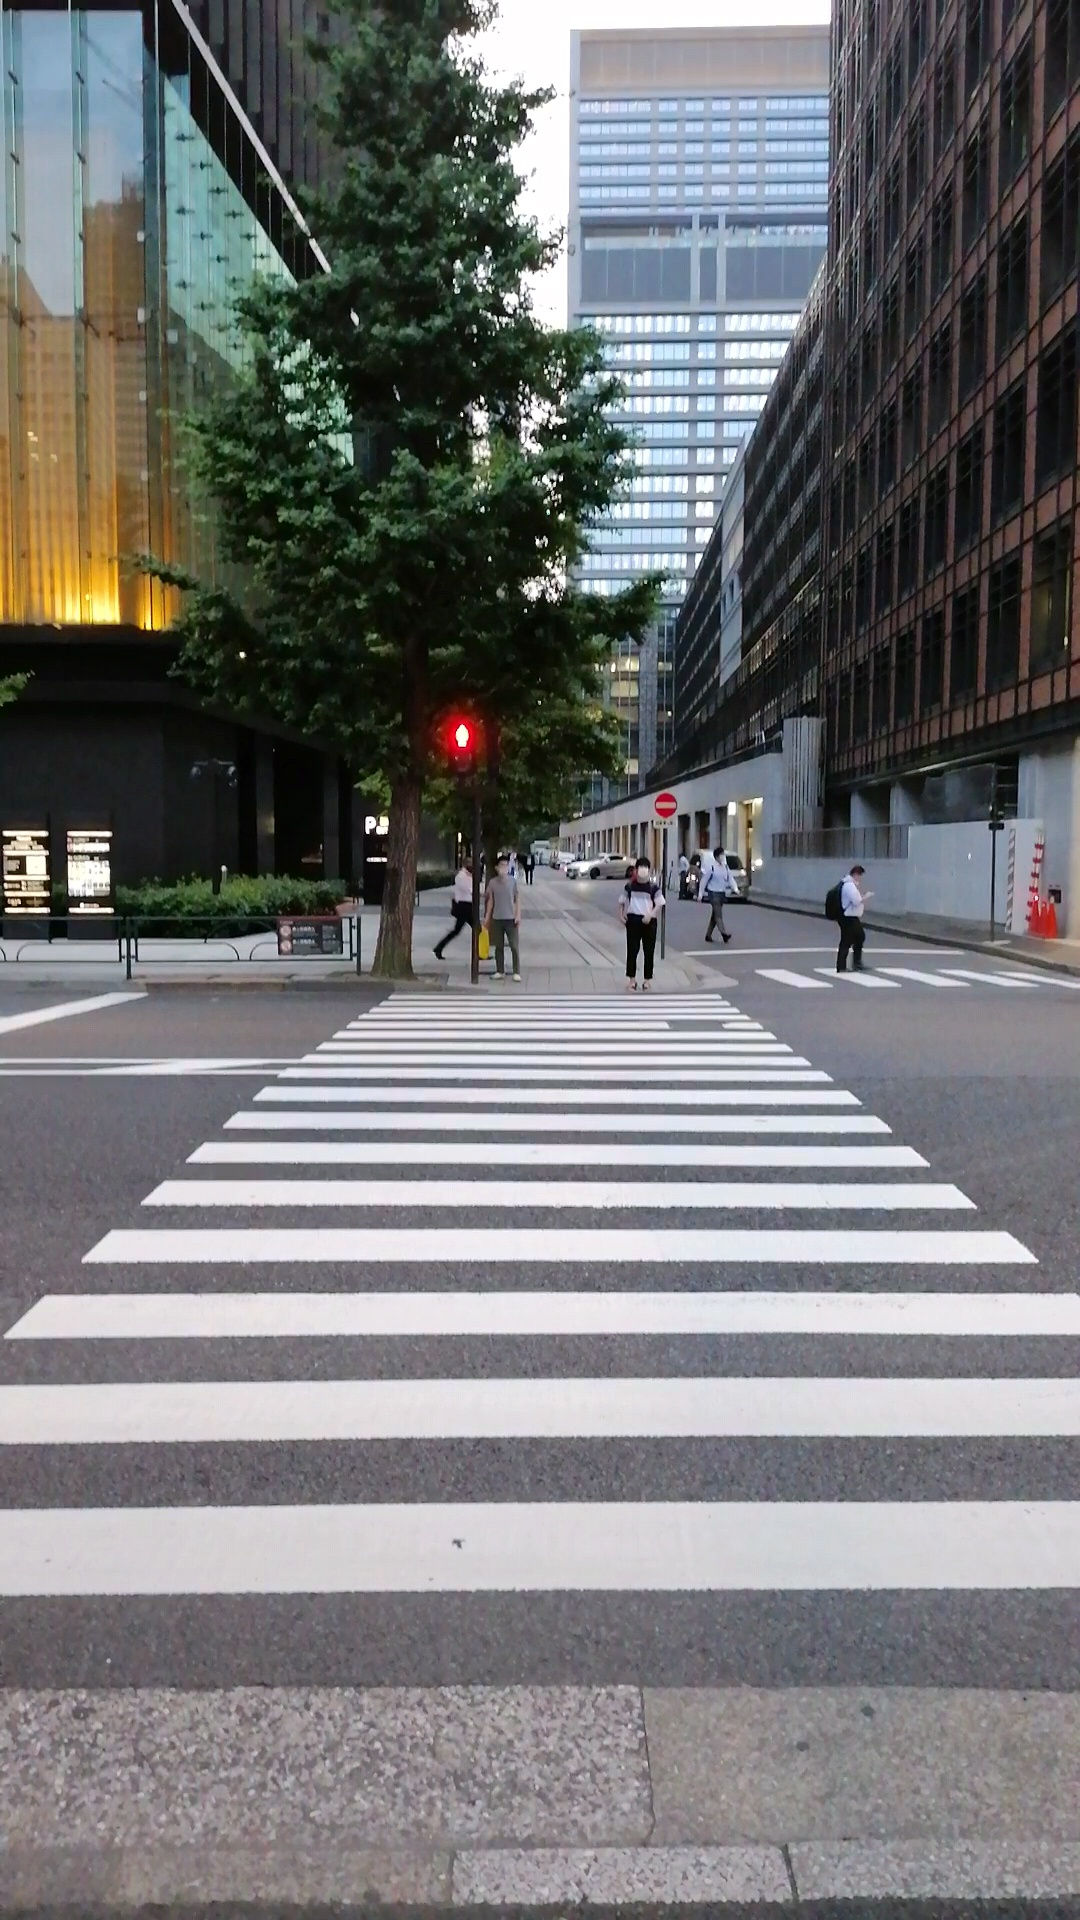red: (447, 716, 477, 774)
